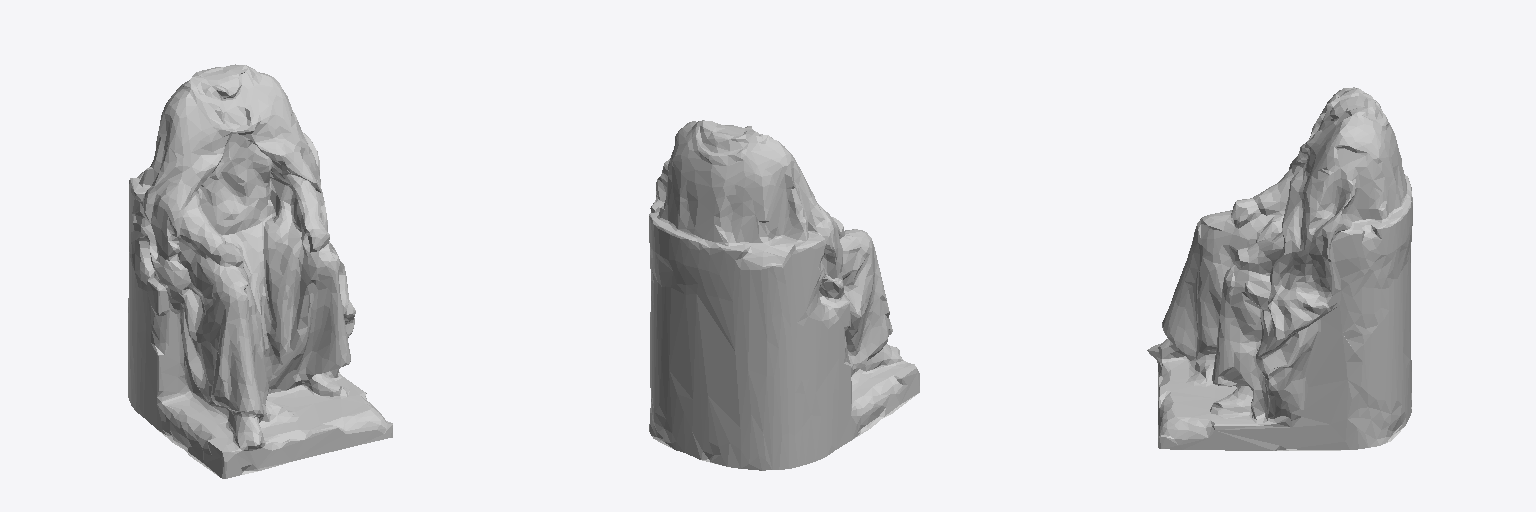
File: FK_Body.obj
3 views of the same model, side by side, from view 1: azimuth 30°, elevation 25°; view 2: azimuth 150°, elevation 25°; view 3: azimuth 270°, elevation 25° (orthographic).
Parts seen in each view (by area): view 1: BaseStatue_Top_low; view 2: BaseStatue_Top_low; view 3: BaseStatue_Top_low.
Boxes of the visible parts, box(x1,y1,x2,y2) form: BaseStatue_Top_low: box(128, 64, 392, 478); BaseStatue_Top_low: box(649, 120, 919, 470); BaseStatue_Top_low: box(1147, 87, 1412, 450).
Bounding box in the file's own units: 0.8519 × 1.35 × 1.04.